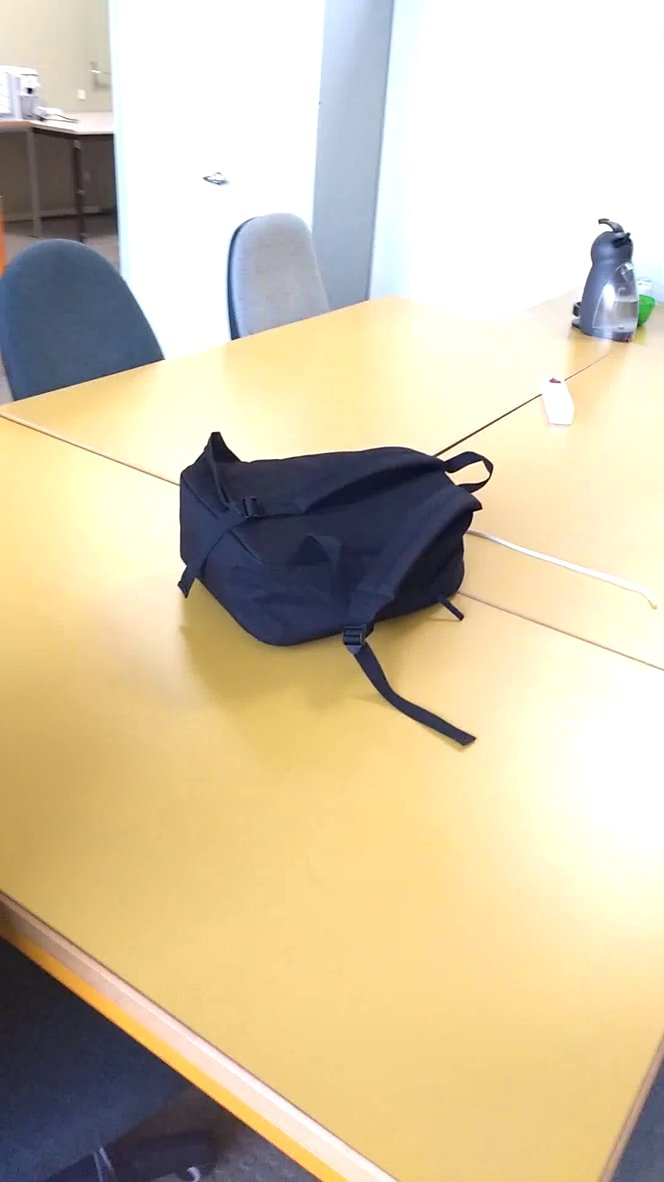bag: (157, 422, 503, 766)
chair: (1, 231, 174, 409), (212, 196, 341, 344)
